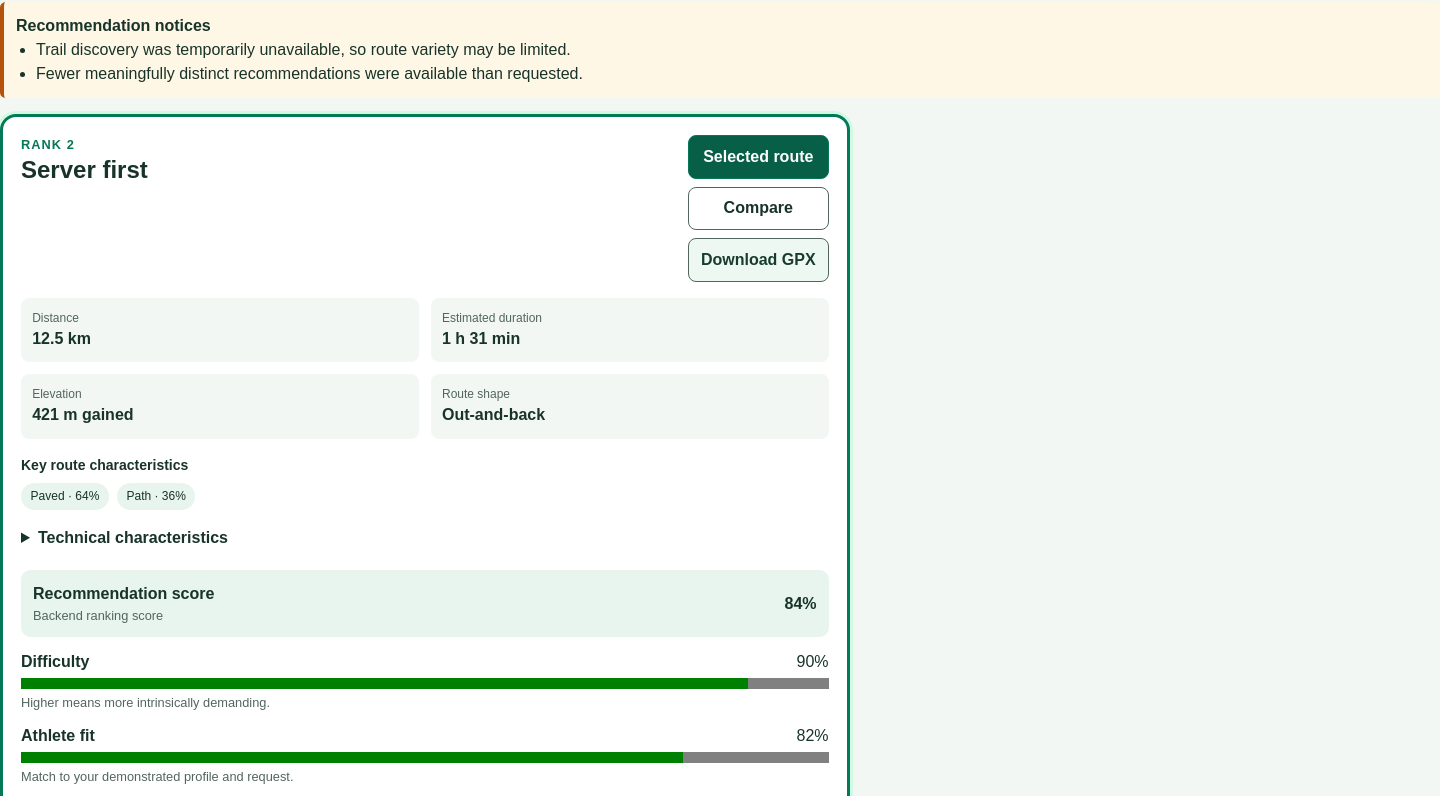
Test: RecommendationExperience › renders semantic headers, effort, scores, characteristics, warnings, provider data, and explicit missing evidence
Click the button "Compare ": (758, 208) [688,187,829,230]
(page scrolled)
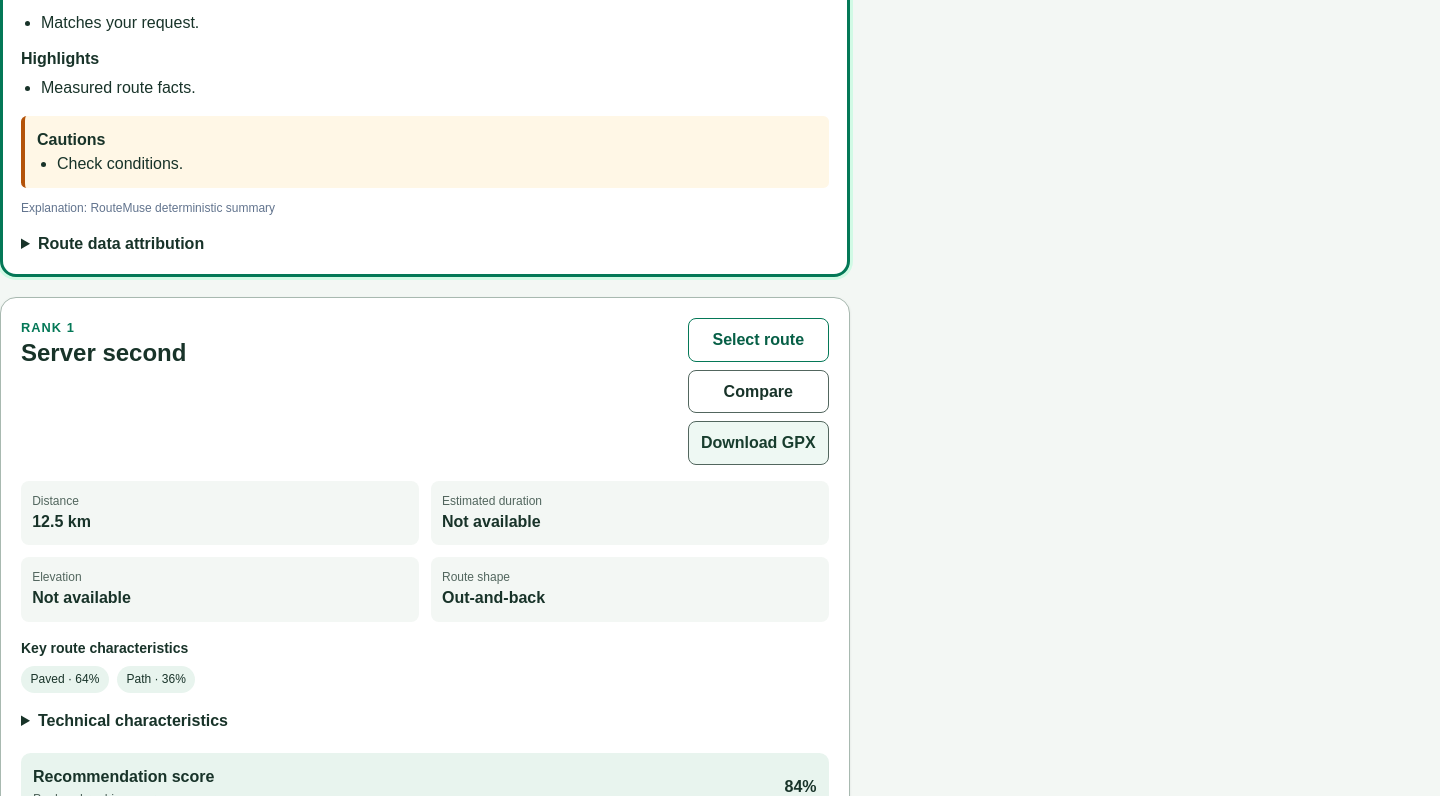
Click the button "Compare ": (758, 392) [688,370,829,413]
(page scrolled)
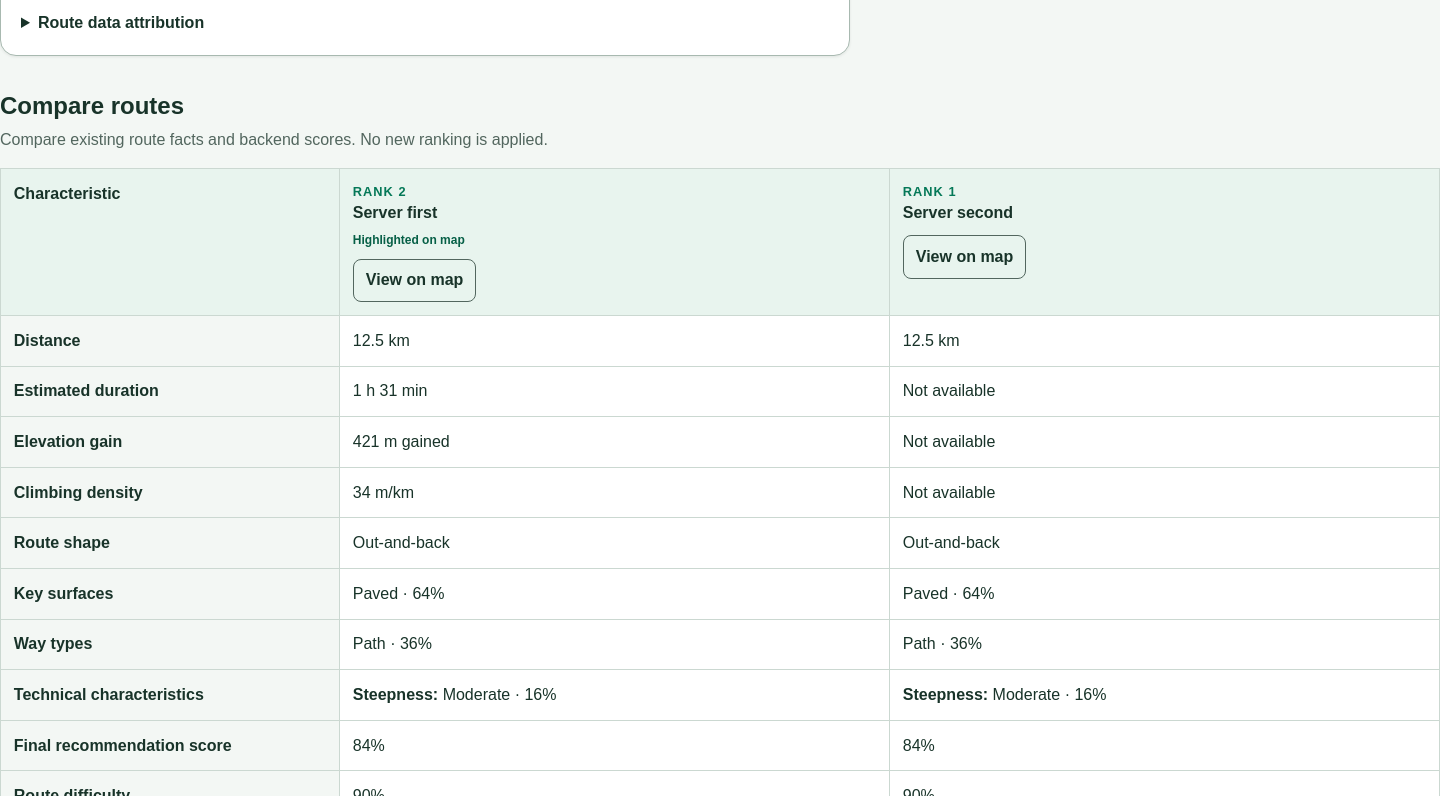
Expected: the column heading "Distance" is shown, [0,316,340,366]
Expected: the column heading "Estimated duration" is shown, [0,366,340,417]
Expected: the column heading "Elevation gain" is shown, [0,417,340,467]
